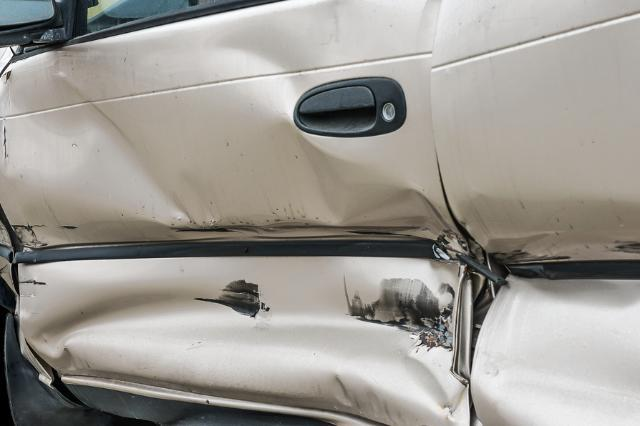Door: (6, 23, 428, 426), (454, 177, 640, 410)
